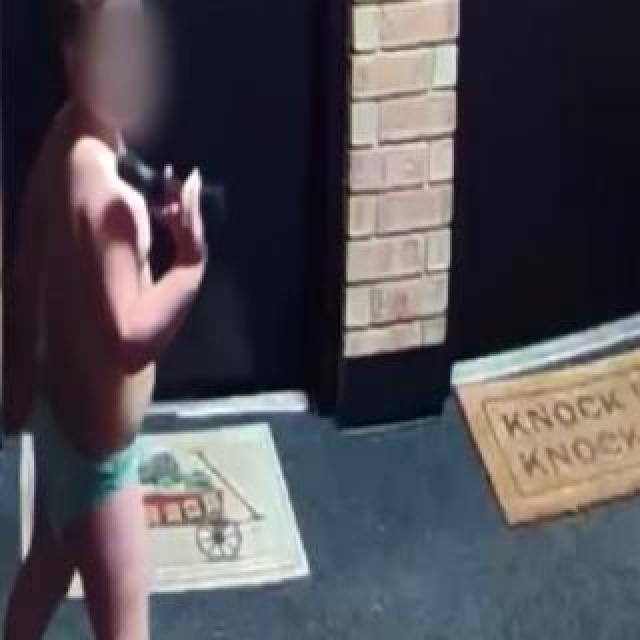Guns: (96, 128, 251, 254)
